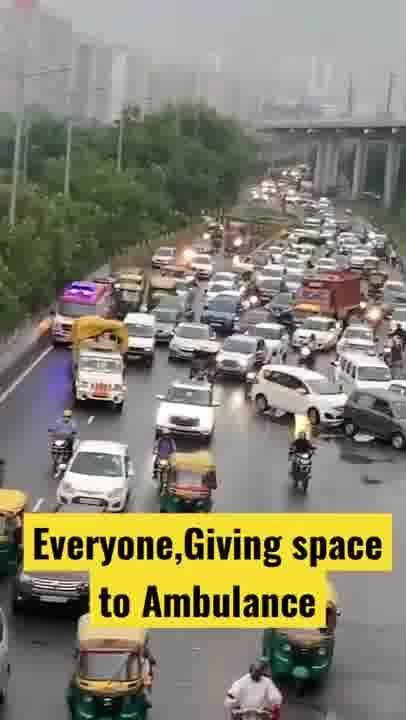AMBULANCE: (50, 278, 112, 347)
